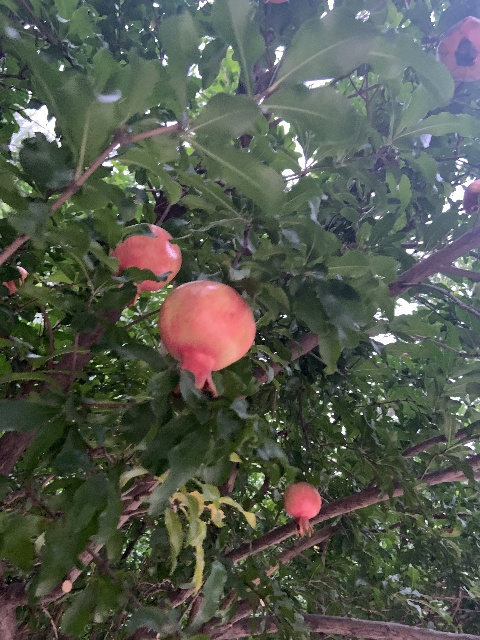ripe: (158, 280, 256, 397), (110, 224, 182, 307), (438, 17, 480, 84), (283, 482, 322, 539), (462, 177, 480, 217)
